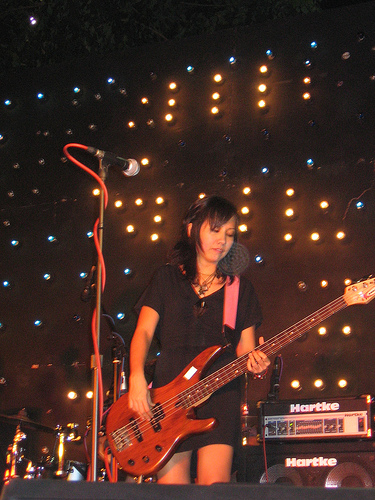without_mask: (184, 208, 238, 272)
